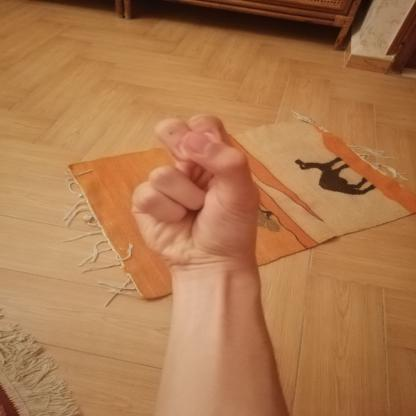QAAF: (116, 105, 282, 277)
